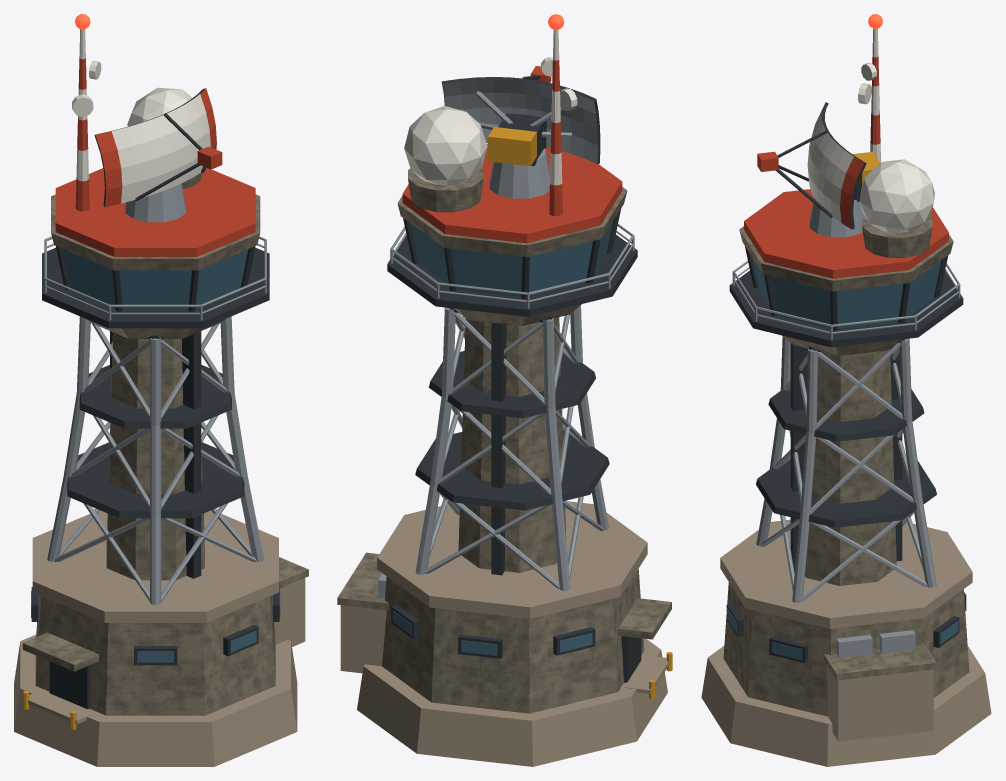
Rendered from Mountain_RadarTower.glb.
3 views of the same model, side by side, from view 1: azimuth 30°, elevation 25°; view 2: azimuth 150°, elevation 25°; view 3: azimuth 270°, elevation 25° (orthographic). The views are drawn at different scales.
Visible parts, largest first — view 1: SM_RadarTower; view 2: SM_RadarTower; view 3: SM_RadarTower.
Boxes of the visible parts, box(x1,y1,x2,y2) form: SM_RadarTower: box(14, 14, 308, 766); SM_RadarTower: box(337, 14, 672, 766); SM_RadarTower: box(701, 14, 991, 766).
Bounding box in the file's own units: 19.64 × 46.08 × 18.24.
9 materials, 1 textured.
